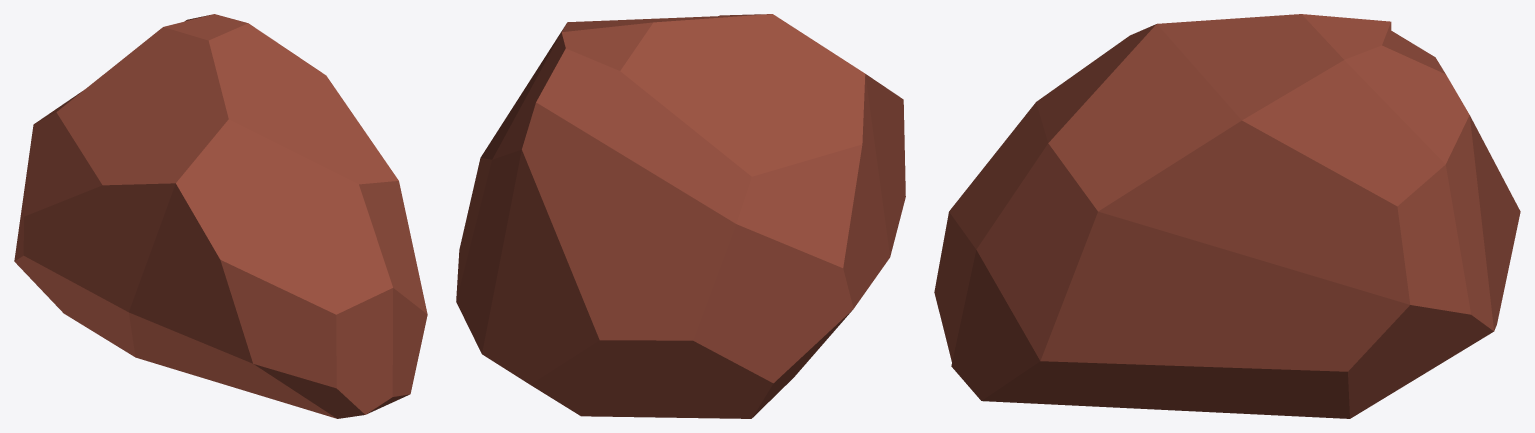
Rendered from Rock_Large_001.fbx.
3 views of the same model, side by side, from view 1: azimuth 30°, elevation 25°; view 2: azimuth 150°, elevation 25°; view 3: azimuth 270°, elevation 25° (orthographic). The views are drawn at different scales.
Parts seen in each view (by area): view 1: Rock_Large_001; view 2: Rock_Large_001; view 3: Rock_Large_001.
Boxes of the visible parts, x1=… form: Rock_Large_001: x1=14, y1=14, x2=427, y2=418; Rock_Large_001: x1=456, y1=14, x2=905, y2=418; Rock_Large_001: x1=934, y1=14, x2=1520, y2=418.
Size of the model in its own units: 900 by 829 by 1272.
